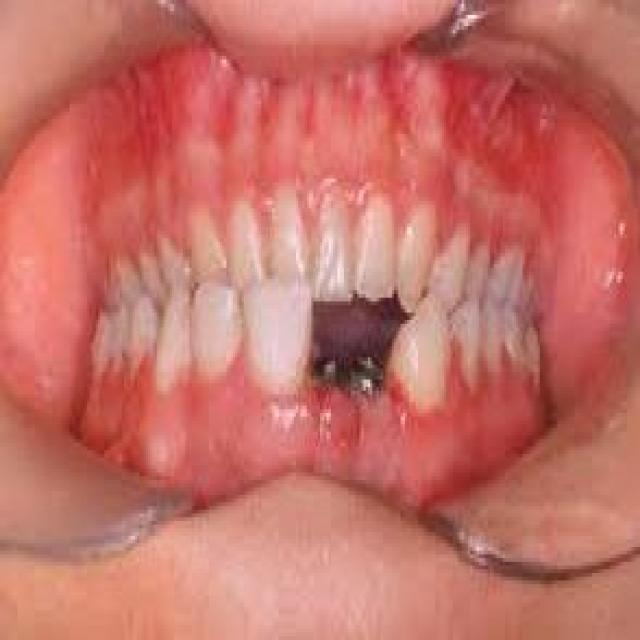caries: (315, 340, 390, 421)
